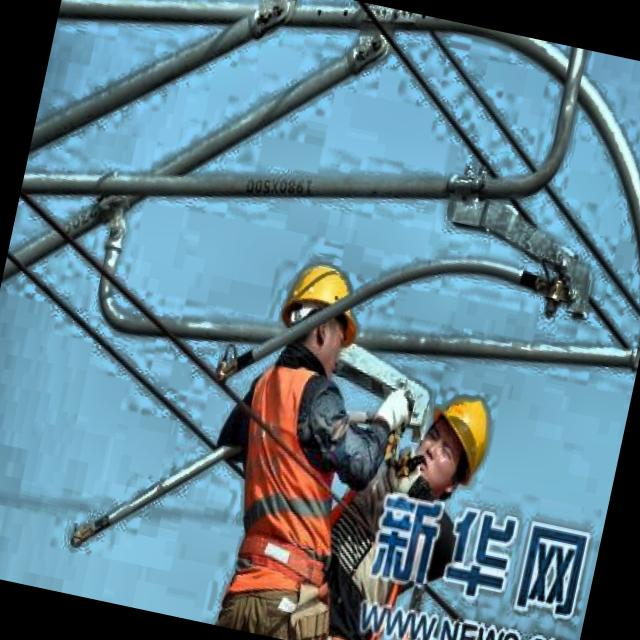helmet: (262, 245, 372, 382), (401, 379, 505, 506)
